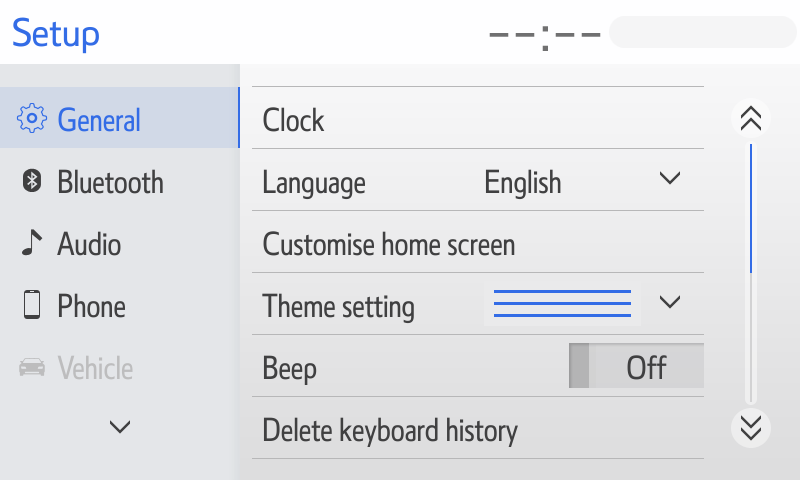touchPart: (247, 79, 705, 153), (249, 142, 705, 216), (248, 205, 705, 278), (245, 331, 709, 401), (245, 269, 706, 336), (245, 394, 710, 459), (16, 165, 181, 209), (13, 222, 148, 267), (13, 285, 142, 326), (730, 404, 780, 448), (729, 101, 779, 141), (96, 407, 143, 443)
untouchPart: (476, 6, 795, 59), (2, 84, 242, 152), (15, 348, 143, 389), (8, 15, 124, 52)
